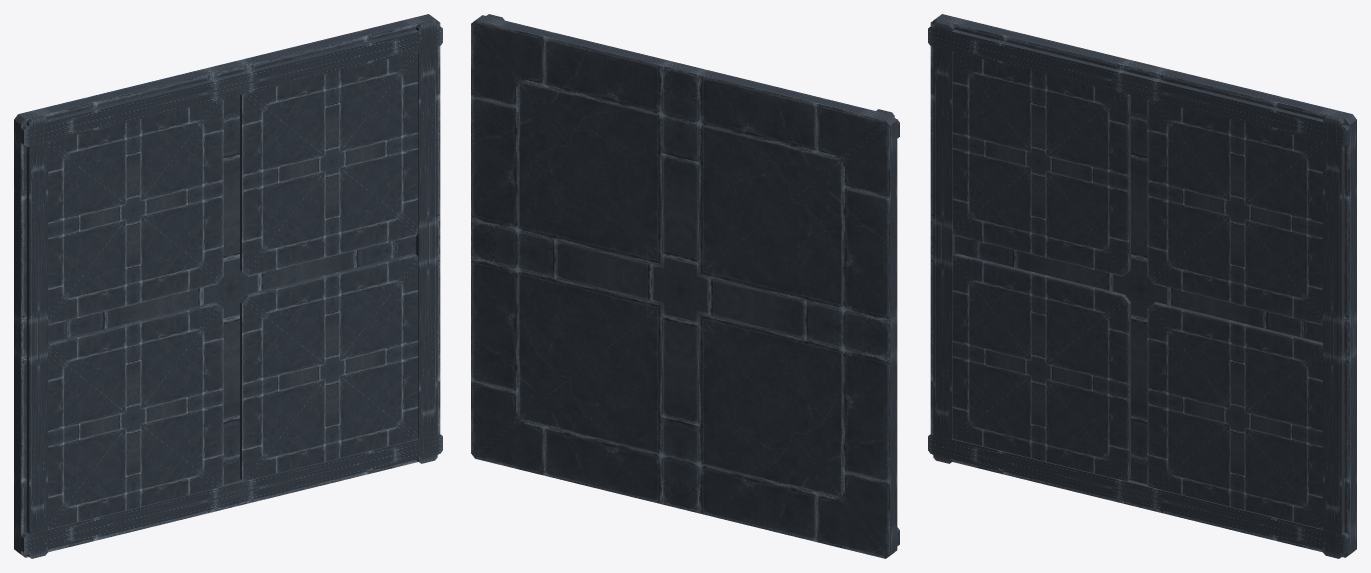
File: rv_interior_floor.obj
The picture shows the model from 3 angles, left to right: view 1: azimuth 30°, elevation 25°; view 2: azimuth 150°, elevation 25°; view 3: azimuth 330°, elevation 25°; orthographic projection.
Visible parts, largest first — view 1: rv_interior_floor; view 2: rv_interior_floor; view 3: rv_interior_floor.
Part boxes in pixels (x1,y1,x2,y2): rv_interior_floor: (14, 14, 442, 558); rv_interior_floor: (471, 14, 899, 558); rv_interior_floor: (928, 14, 1356, 558).
Size of the model in its own units: 8 by 8 by 0.33.
1 material, 1 textured.
